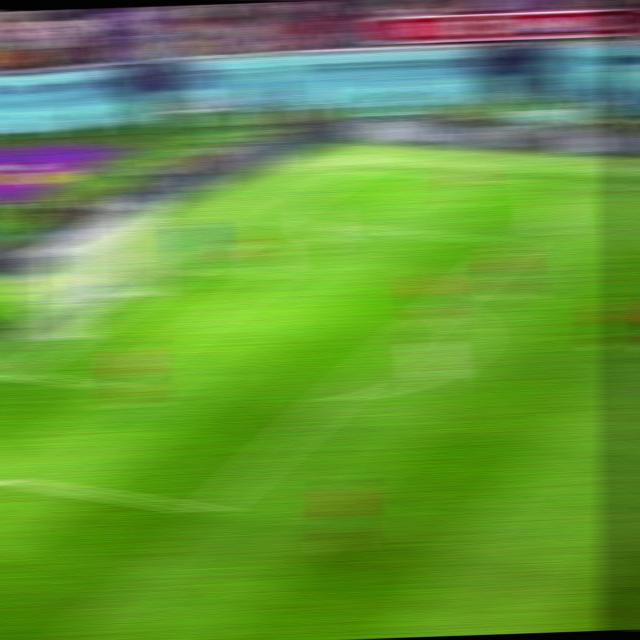bigarea_bottom_inner: (189, 496, 226, 522)
bigarea_top_inner: (503, 235, 534, 250)
bigarea_top_outter: (259, 214, 286, 224)
bottom_arc_area_intersection: (319, 390, 351, 406)
corner: (344, 166, 371, 172)
smallarea_bottom_inner: (94, 376, 127, 395)
smallarea_bottom_outter: (0, 363, 32, 381)
smallarea_top_inner: (258, 270, 286, 278)
smallarea_top_outter: (179, 262, 206, 274)
top_arc_area_intersection: (428, 300, 457, 310)
